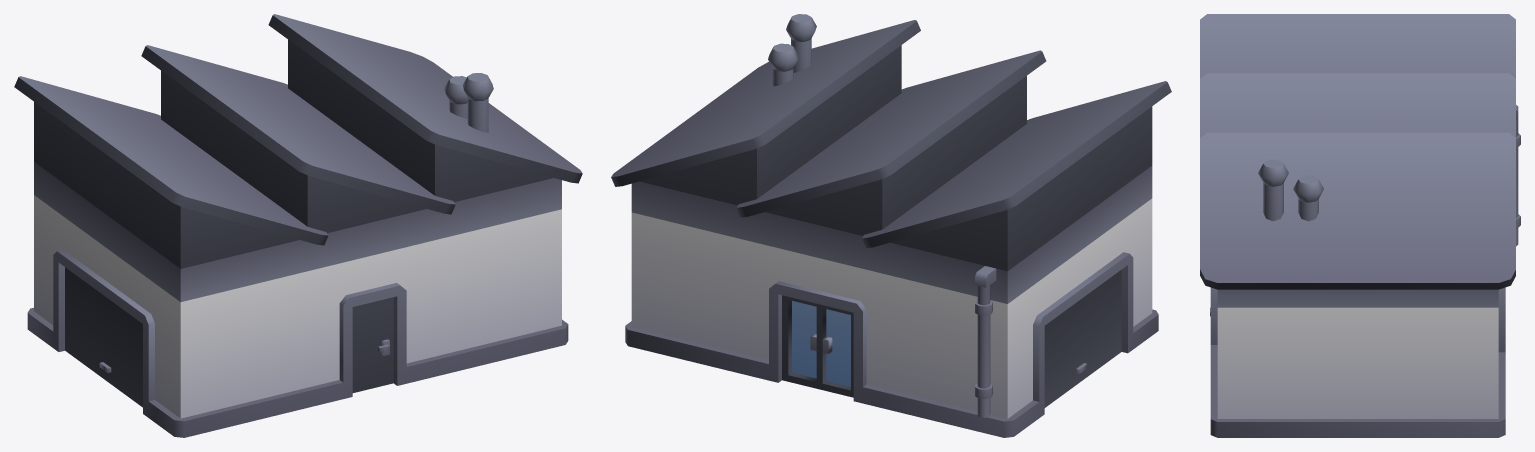
The model's file is building-k.glb.
3 views of the same model, side by side, from view 1: azimuth 30°, elevation 25°; view 2: azimuth 150°, elevation 25°; view 3: azimuth 270°, elevation 25° (orthographic). The views are drawn at different scales.
Parts seen in each view (by area): view 1: building-k; view 2: building-k; view 3: building-k.
Boxes of the visible parts, box(x1,y1,x2,y2) form: building-k: box(14, 14, 582, 437); building-k: box(611, 14, 1171, 437); building-k: box(1200, 14, 1520, 437).
Bounding box in the file's own units: 1.3 × 0.7727 × 0.9136.
2 materials, 2 textured.
